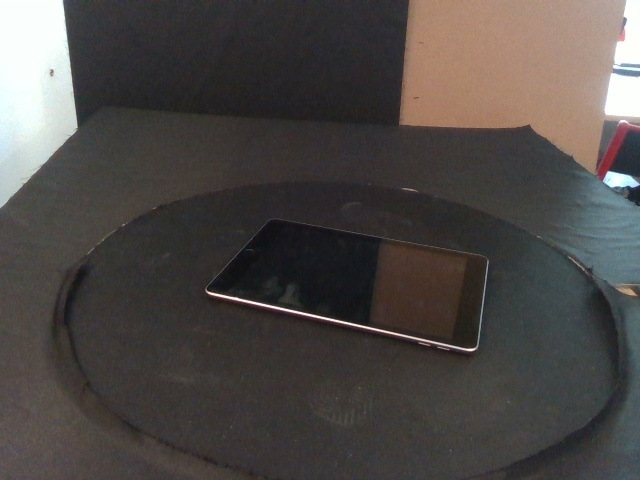laptop: (205, 218, 490, 354)
